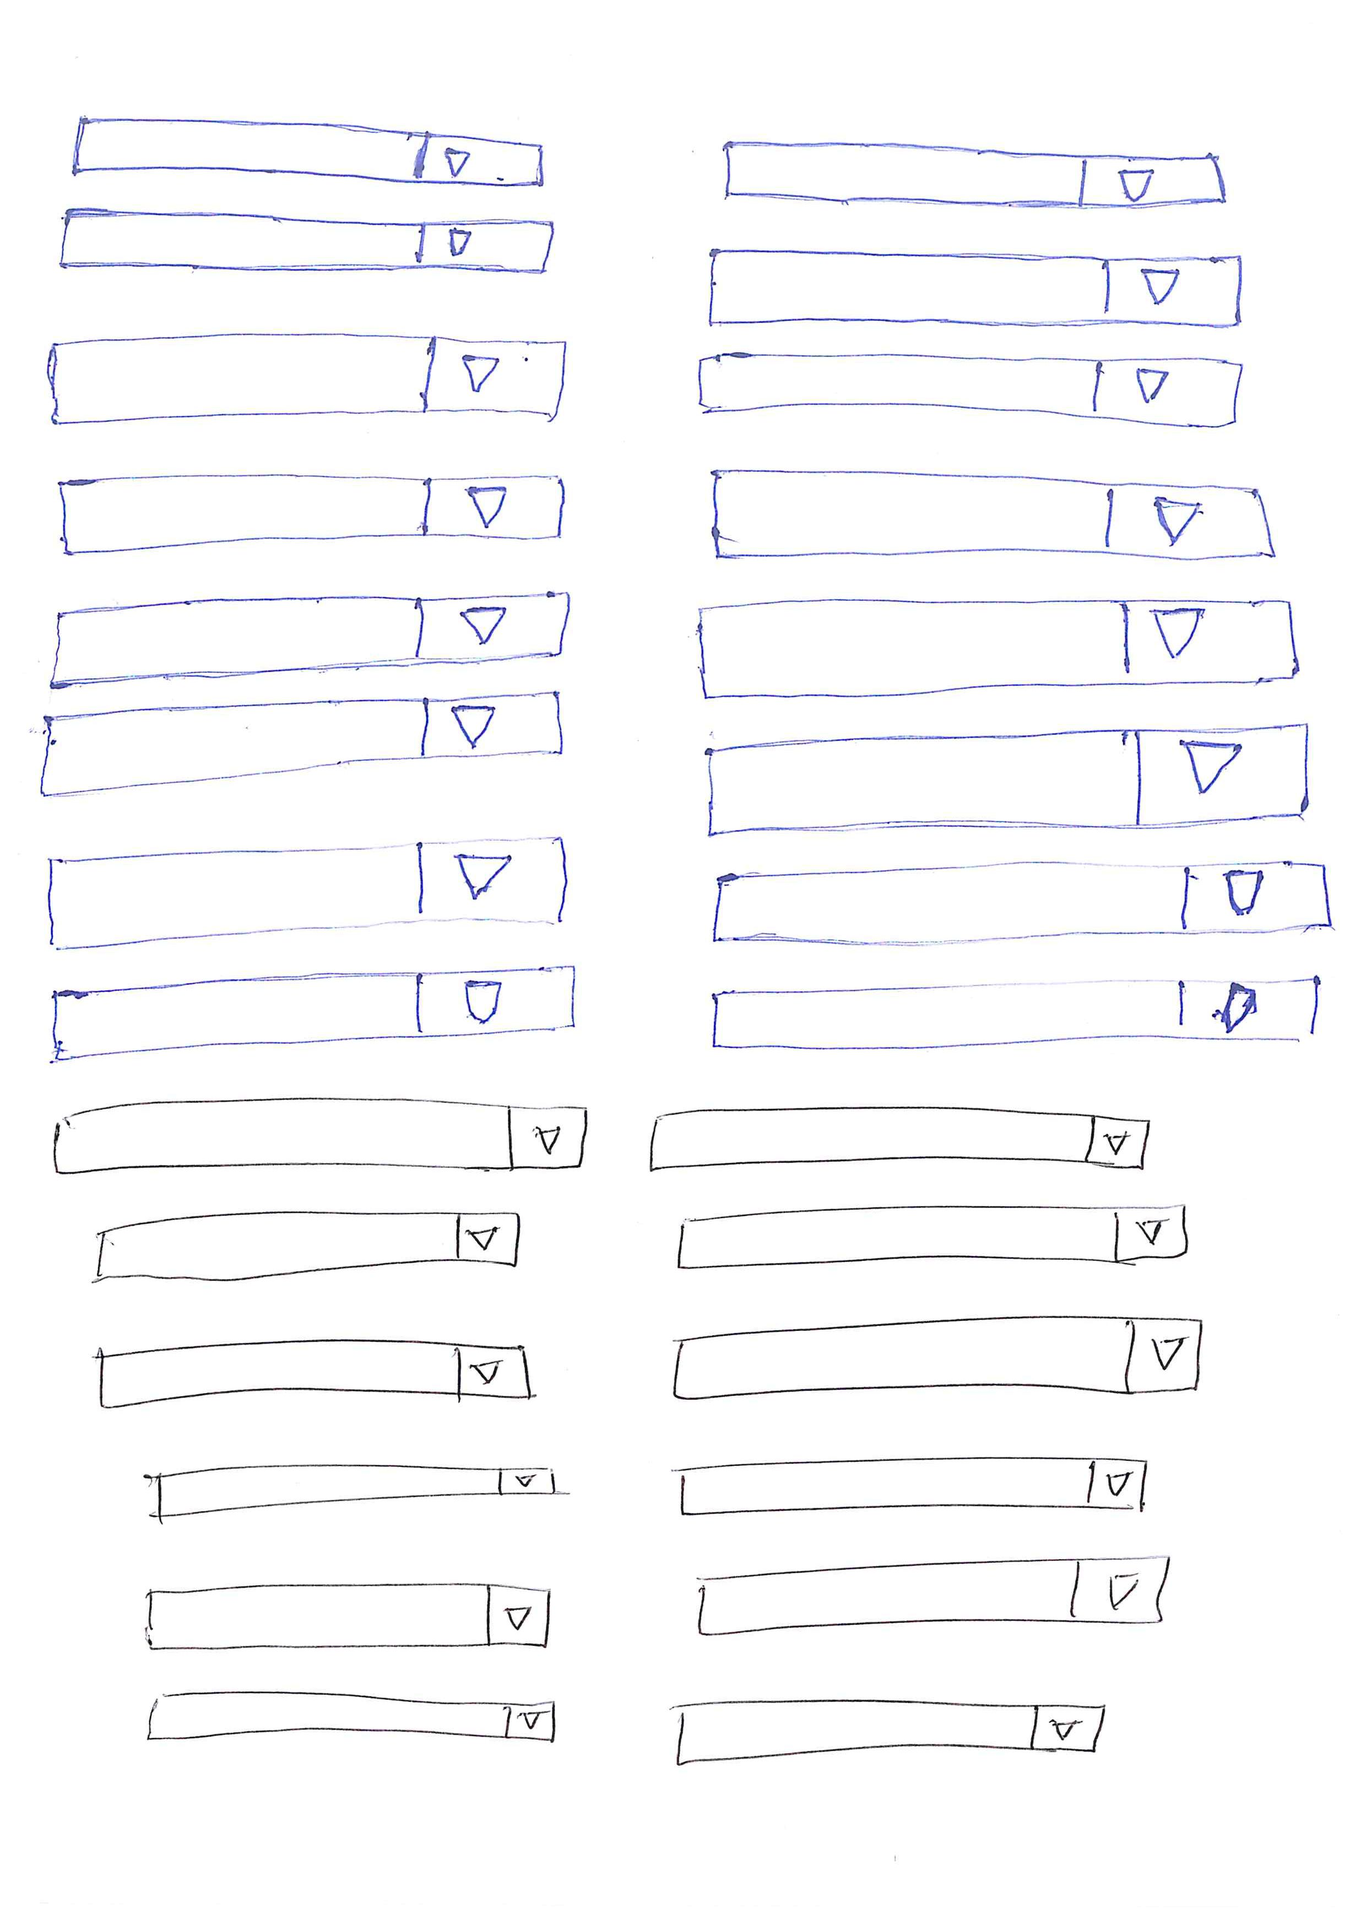Select: (701, 719, 1311, 841), (46, 834, 571, 954), (35, 686, 568, 798), (711, 464, 1279, 562), (707, 859, 1336, 946), (50, 963, 577, 1066), (46, 588, 574, 690), (707, 968, 1325, 1054), (46, 330, 568, 430), (704, 245, 1248, 333), (667, 1314, 1206, 1402), (56, 469, 569, 559), (693, 350, 1246, 432), (50, 1096, 588, 1175), (692, 1554, 1171, 1641), (721, 136, 1231, 211), (671, 1199, 1189, 1272), (645, 1102, 1155, 1174), (52, 204, 557, 276), (67, 114, 544, 186), (92, 1209, 520, 1286), (142, 1576, 554, 1655), (674, 1450, 1149, 1517), (96, 1337, 537, 1408), (671, 1699, 1107, 1768), (152, 1456, 559, 1521), (143, 1686, 559, 1745)
